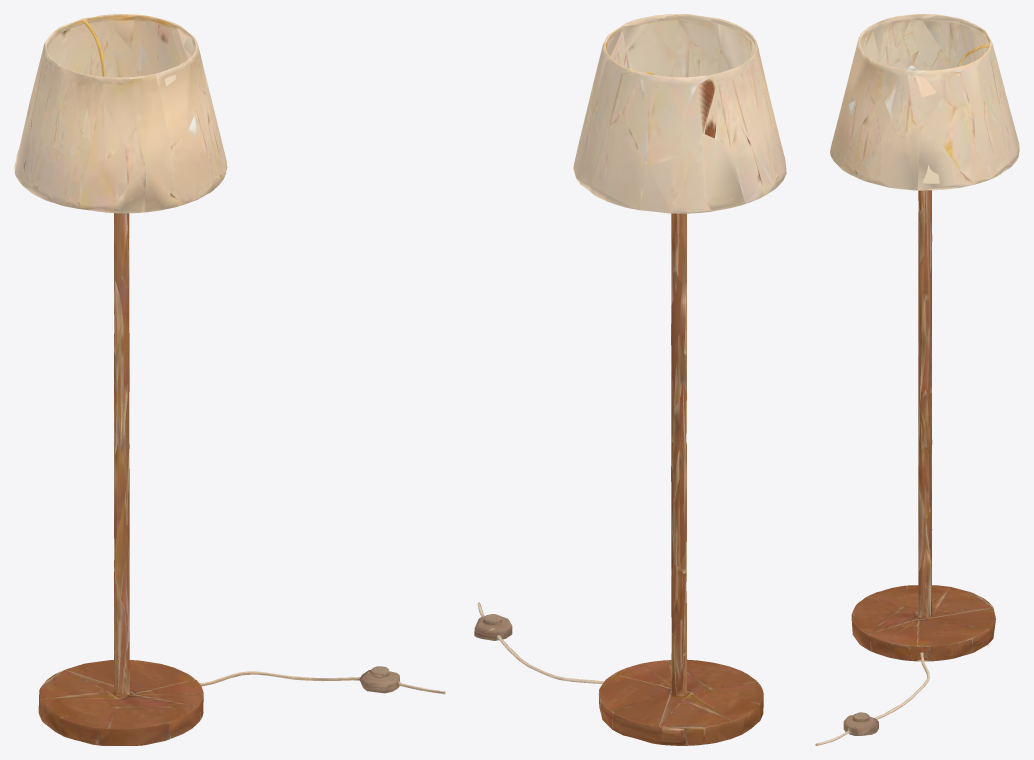
File: lamp.glb
3 renders of one model, left to right at view 1: azimuth 30°, elevation 25°; view 2: azimuth 150°, elevation 25°; view 3: azimuth 270°, elevation 25°, orthographic. The views are drawn at different scales.
Parts seen in each view (by area): view 1: Mesh_0; view 2: Mesh_0; view 3: Mesh_0.
Part boxes in pixels (x1=…): Mesh_0: x1=14, y1=14, x2=445, y2=745; Mesh_0: x1=474, y1=14, x2=786, y2=745; Mesh_0: x1=815, y1=14, x2=1019, y2=745.
Size of the model in its own units: 1.06 by 1.9 by 0.5948.
1 material, 1 textured.
